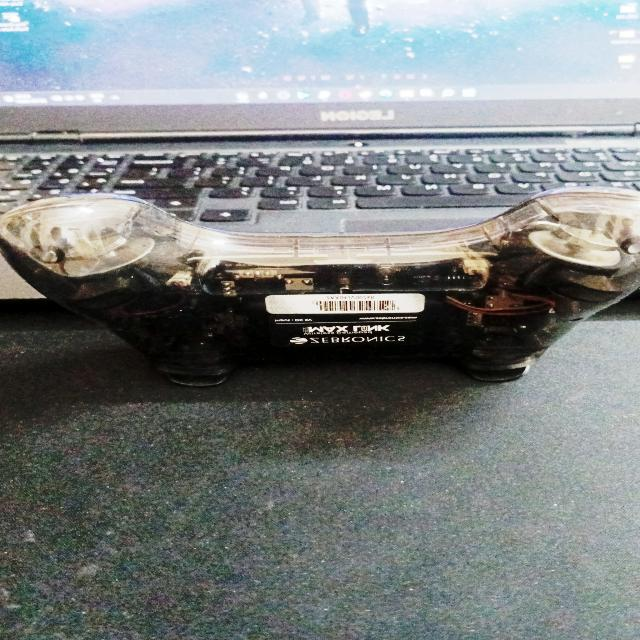gamepad: (1, 185, 640, 387)
